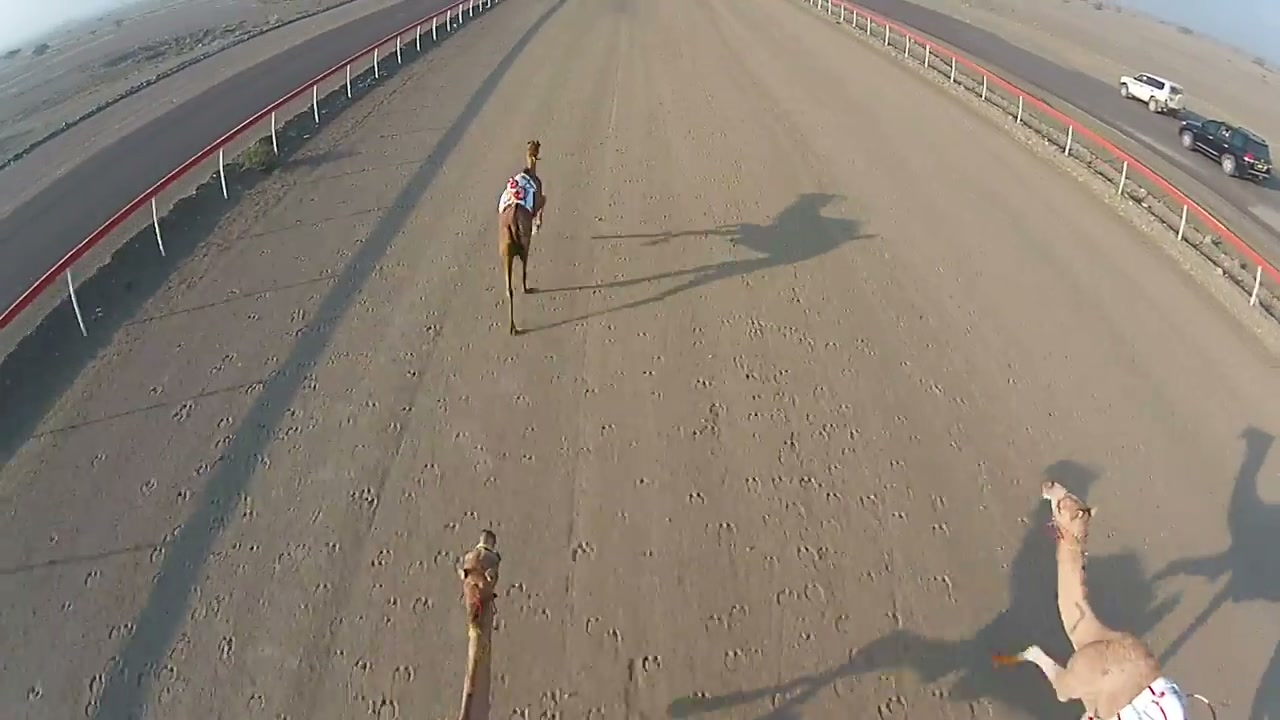animal_footprint: (40, 295, 560, 719), (544, 298, 900, 719)
